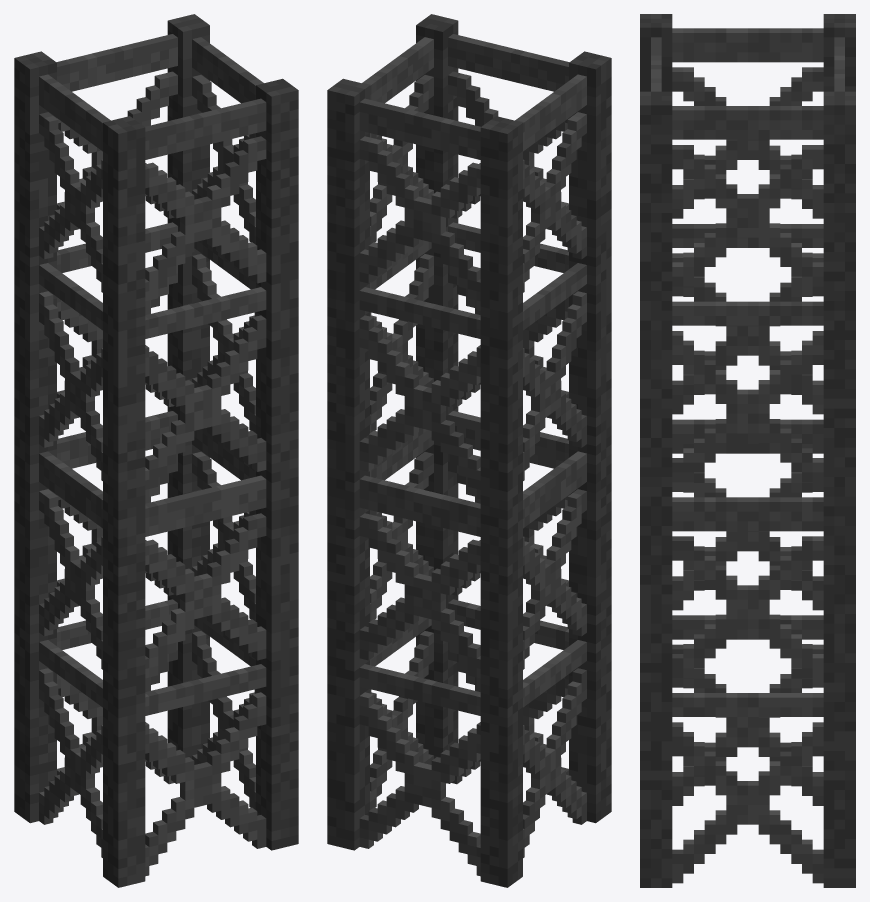
Rendered from Ascensor-0-Columna.obj.
3 renders of one model, left to right at view 1: azimuth 30°, elevation 25°; view 2: azimuth 150°, elevation 25°; view 3: azimuth 270°, elevation 25°, orthographic. The views are drawn at different scales.
Parts seen in each view (by area): view 1: Columna; view 2: Columna; view 3: Columna.
Boxes of the visible parts, x1,y1,x2,y2 form: Columna: (14, 14, 298, 887); Columna: (327, 14, 611, 887); Columna: (640, 14, 855, 887).
Bounding box in the file's own units: 2 × 8 × 2.
1 material, 1 textured.
